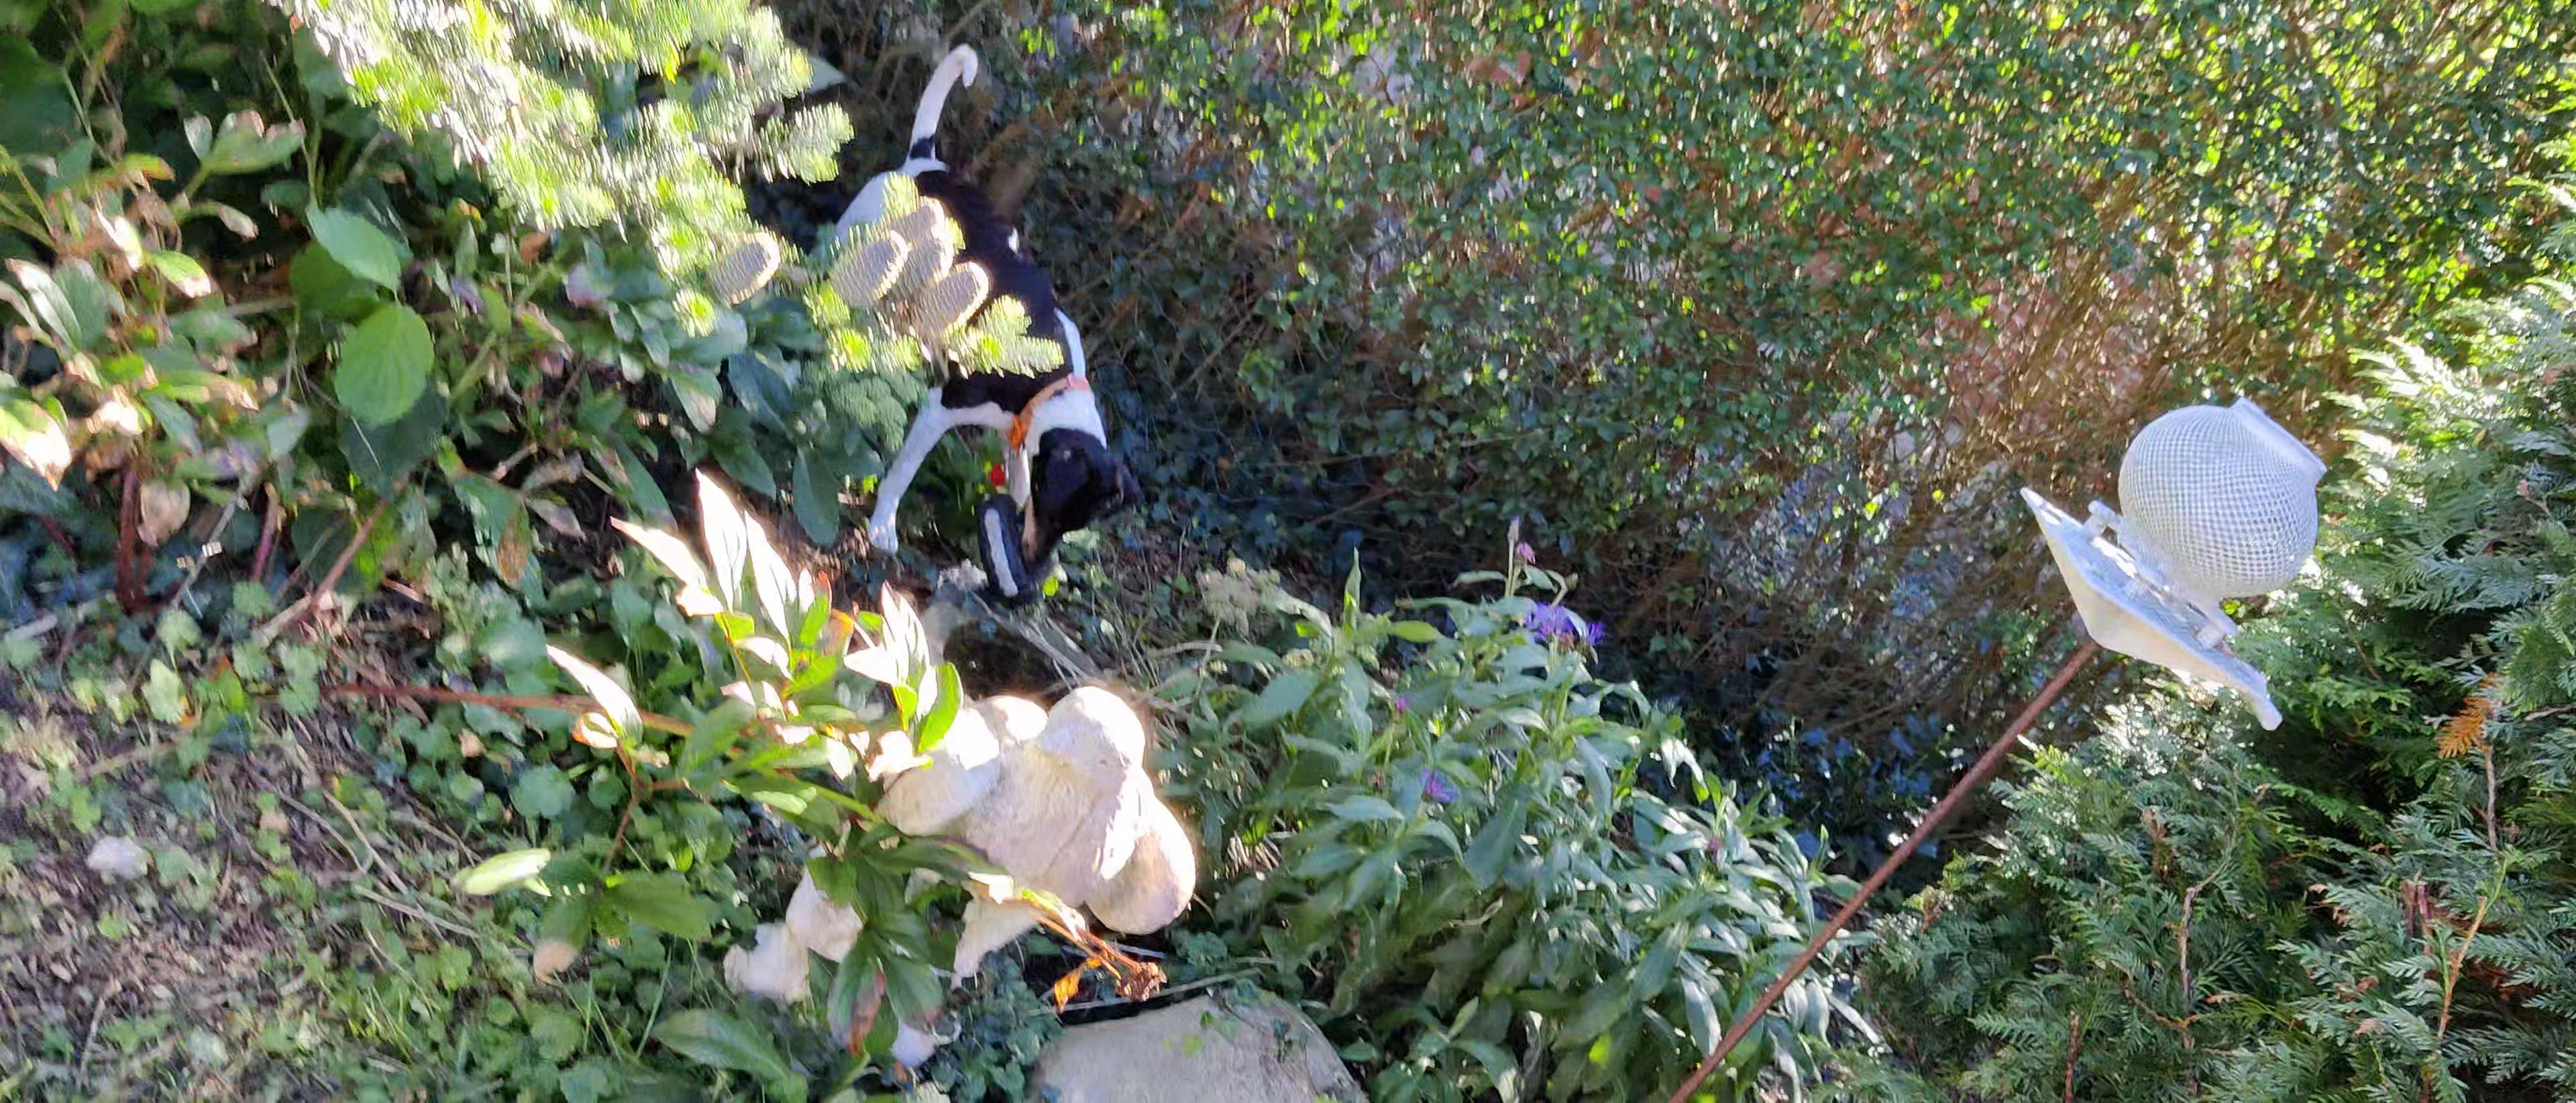Dog: (807, 43, 1134, 577)
